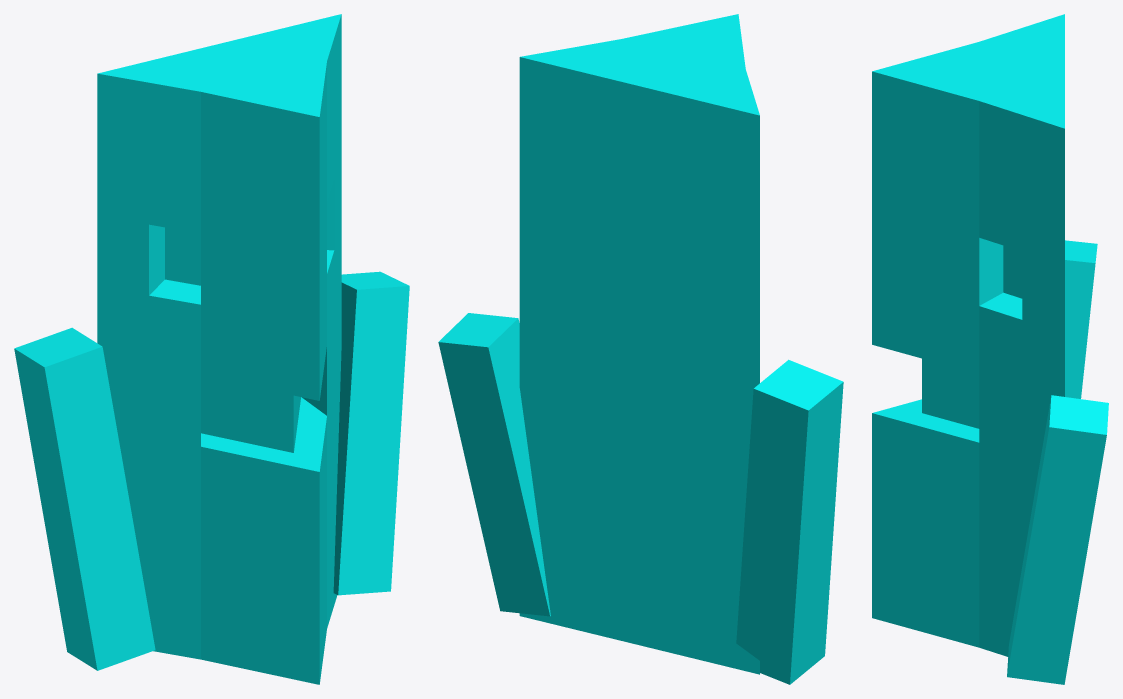
File: Crystal Companion.fbx
The picture shows the model from 3 angles, left to right: view 1: azimuth 30°, elevation 25°; view 2: azimuth 150°, elevation 25°; view 3: azimuth 270°, elevation 25°; orthographic projection. The views are drawn at different scales.
Visible parts, largest first — view 1: Crystal_Companion; view 2: Crystal_Companion; view 3: Crystal_Companion.
Boxes of the visible parts, x1,y1,x2,y2 form: Crystal_Companion: [14, 14, 409, 684]; Crystal_Companion: [438, 14, 843, 684]; Crystal_Companion: [872, 14, 1108, 684].
Size of the model in its own units: 2.15 by 3.14 by 1.23.
